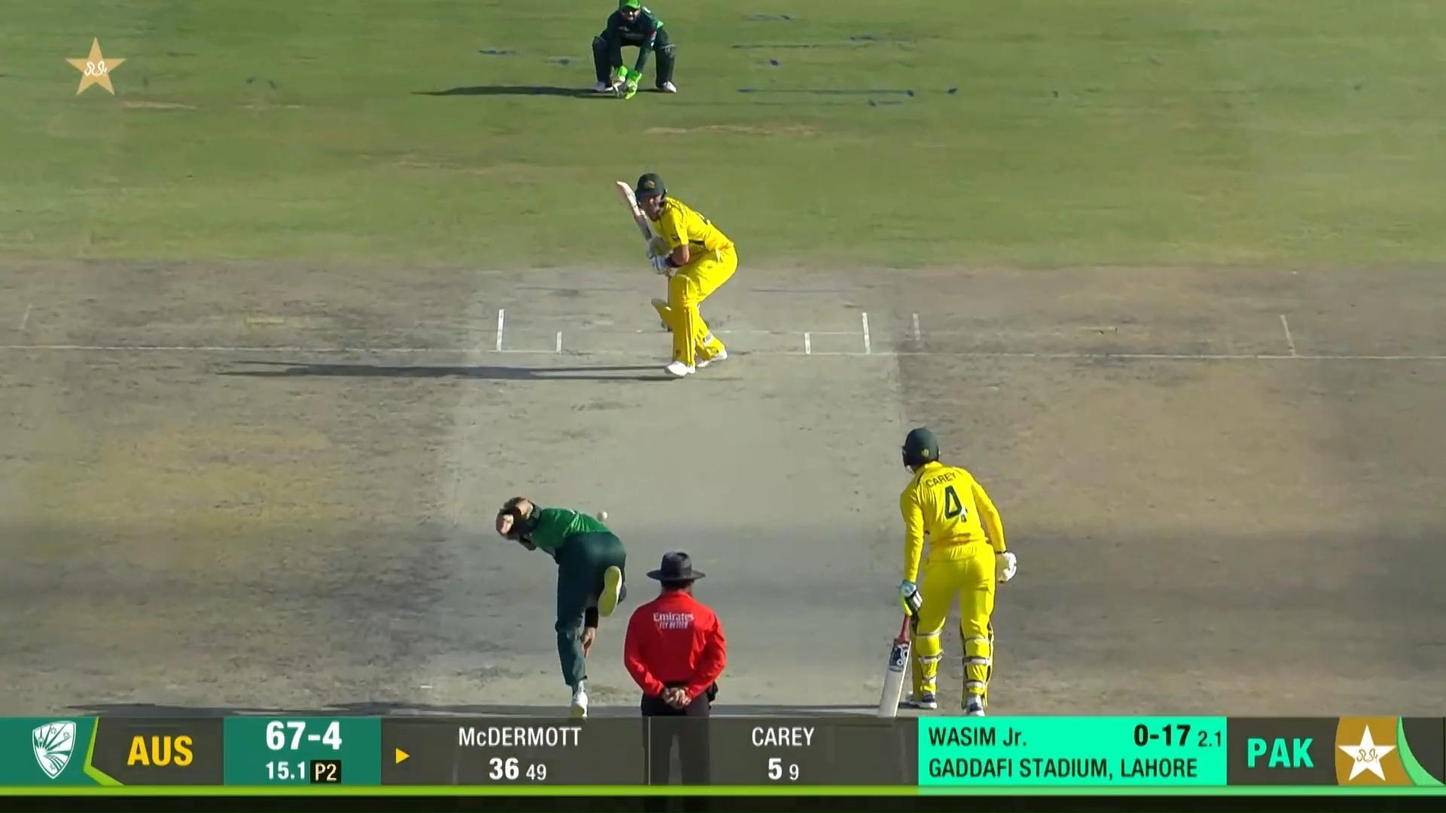BM 1: (614, 172, 740, 379)
BO: (496, 496, 628, 716)
